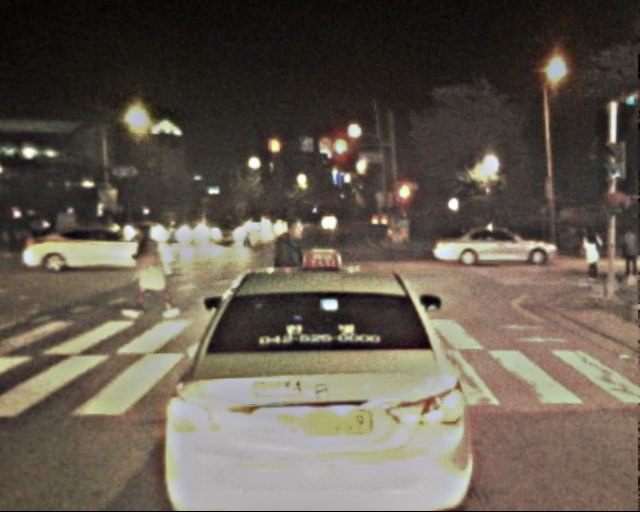person: (267, 216, 315, 333), (126, 225, 167, 324), (578, 227, 603, 288), (617, 226, 640, 287)
